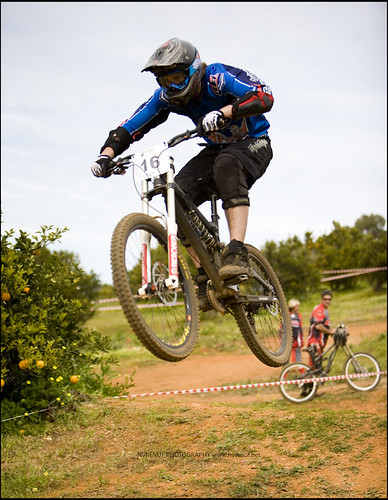helmet: (139, 35, 213, 108)
